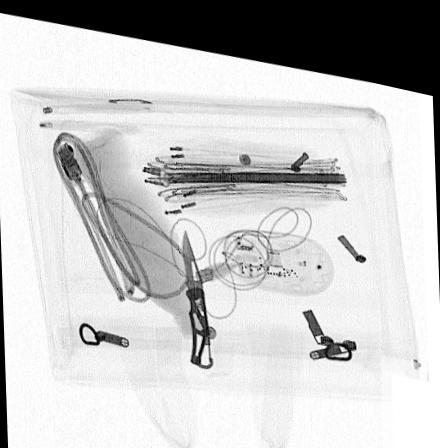Knife: (182, 220, 213, 359)
